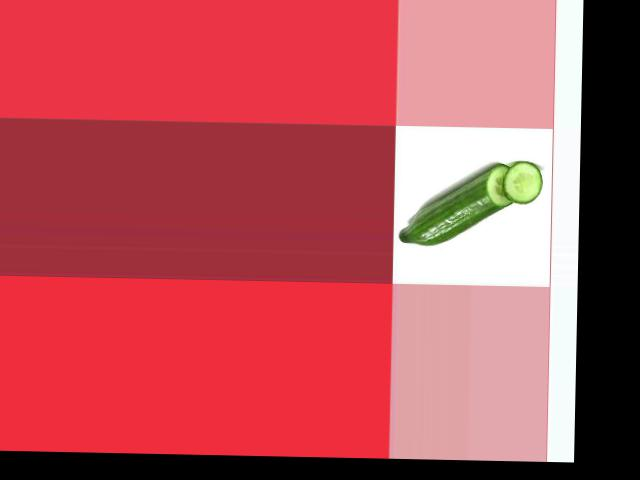cucumber: (399, 161, 516, 246)
